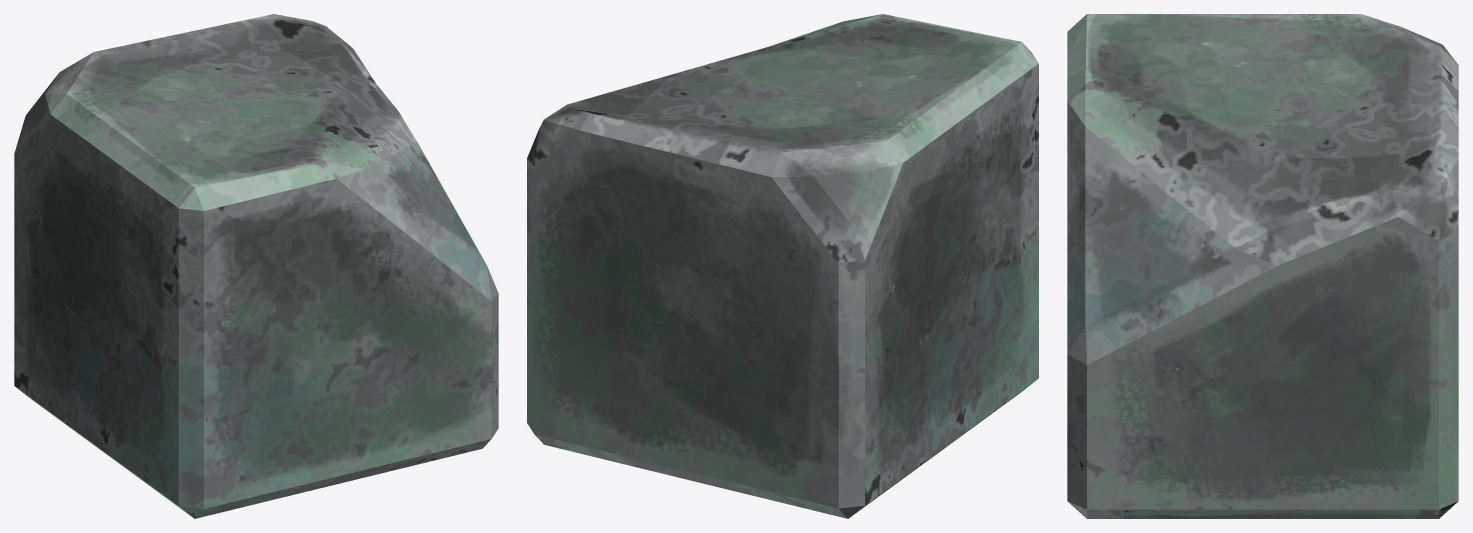
File: roadcube02.fbx
3 views of the same model, side by side, from view 1: azimuth 30°, elevation 25°; view 2: azimuth 150°, elevation 25°; view 3: azimuth 270°, elevation 25° (orthographic). The views are drawn at different scales.
Parts seen in each view (by area): view 1: roadcube02; view 2: roadcube02; view 3: roadcube02.
Boxes of the visible parts, x1,y1,x2,y2 form: roadcube02: [14, 14, 498, 518]; roadcube02: [527, 14, 1038, 518]; roadcube02: [1067, 14, 1458, 518].
Size of the model in its own units: 164 by 162 by 162.
